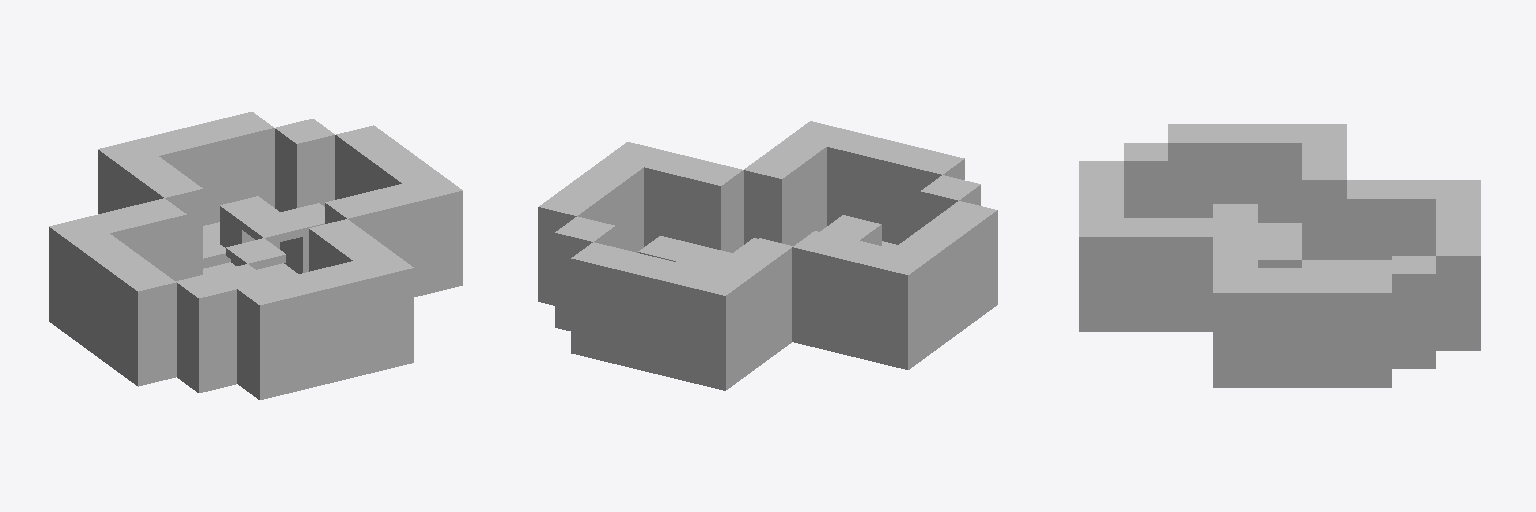
Rendered from Map.obj.
The picture shows the model from 3 angles: view 1: azimuth 30°, elevation 25°; view 2: azimuth 150°, elevation 25°; view 3: azimuth 270°, elevation 25°; orthographic projection.
Parts seen in each view (by area): view 1: Map; view 2: Map; view 3: Map.
Part boxes in pixels (x1,y1,x2,y2): Map: (49,112,462,399); Map: (538,121,997,390); Map: (1079,124,1480,387).
Bounding box in the file's own units: 225 × 58.75 × 225.